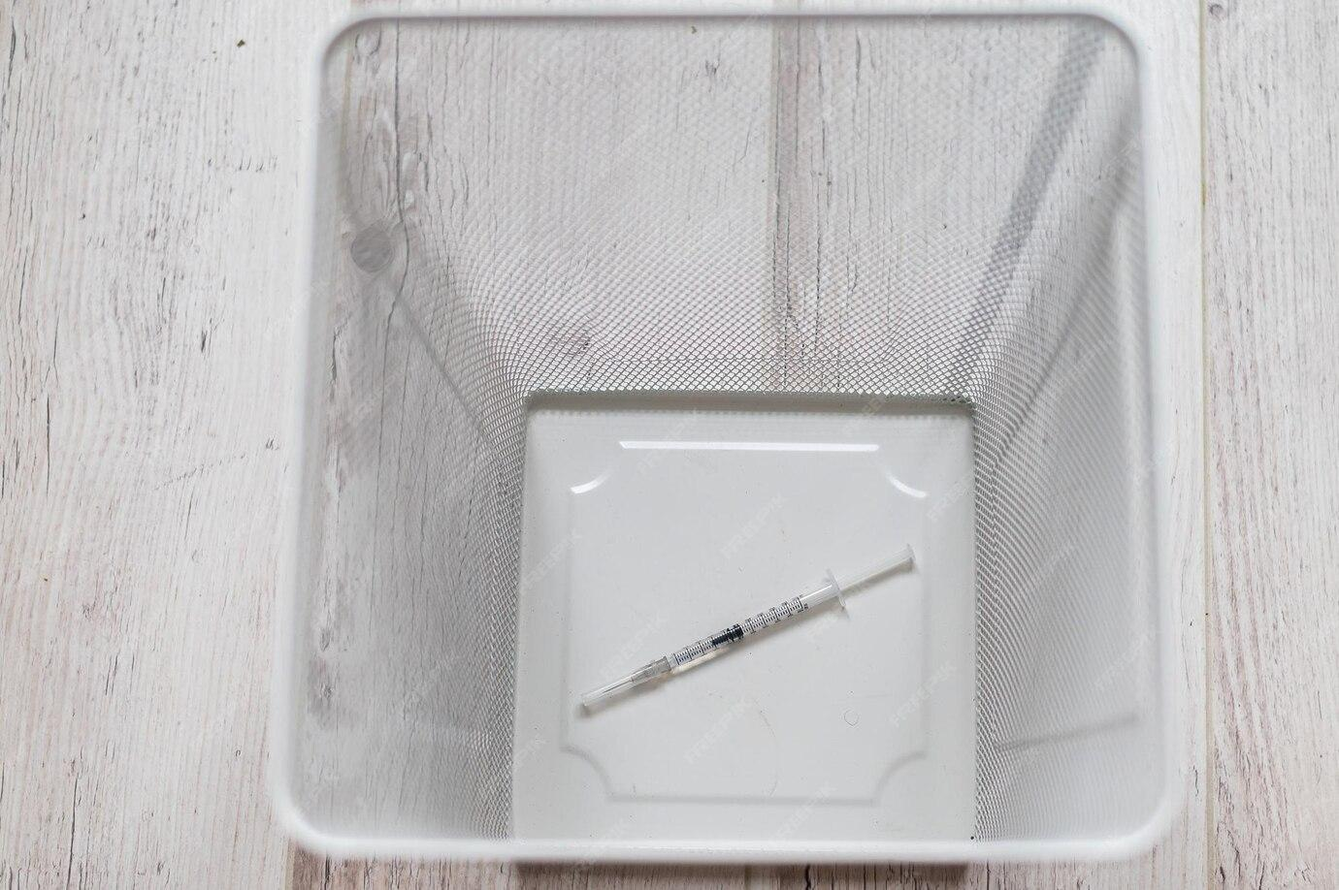Syringe: (582, 546, 913, 707)
